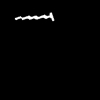half_double_crochet: (15, 13, 53, 20)
